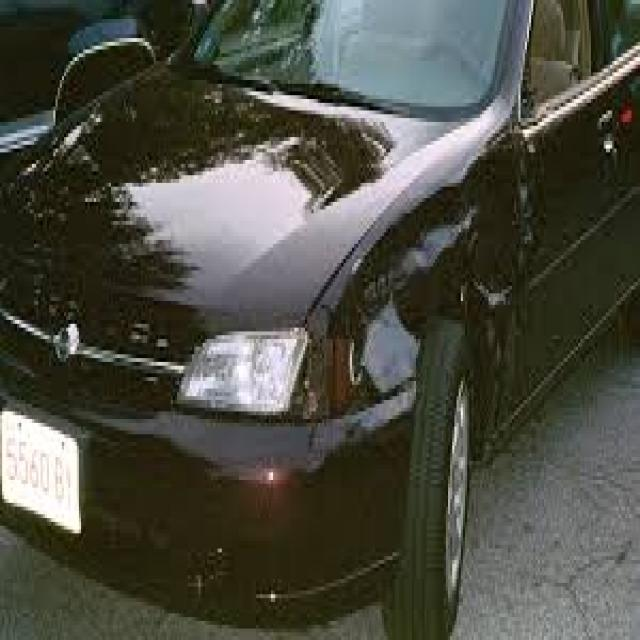minor: (323, 192, 494, 410)
